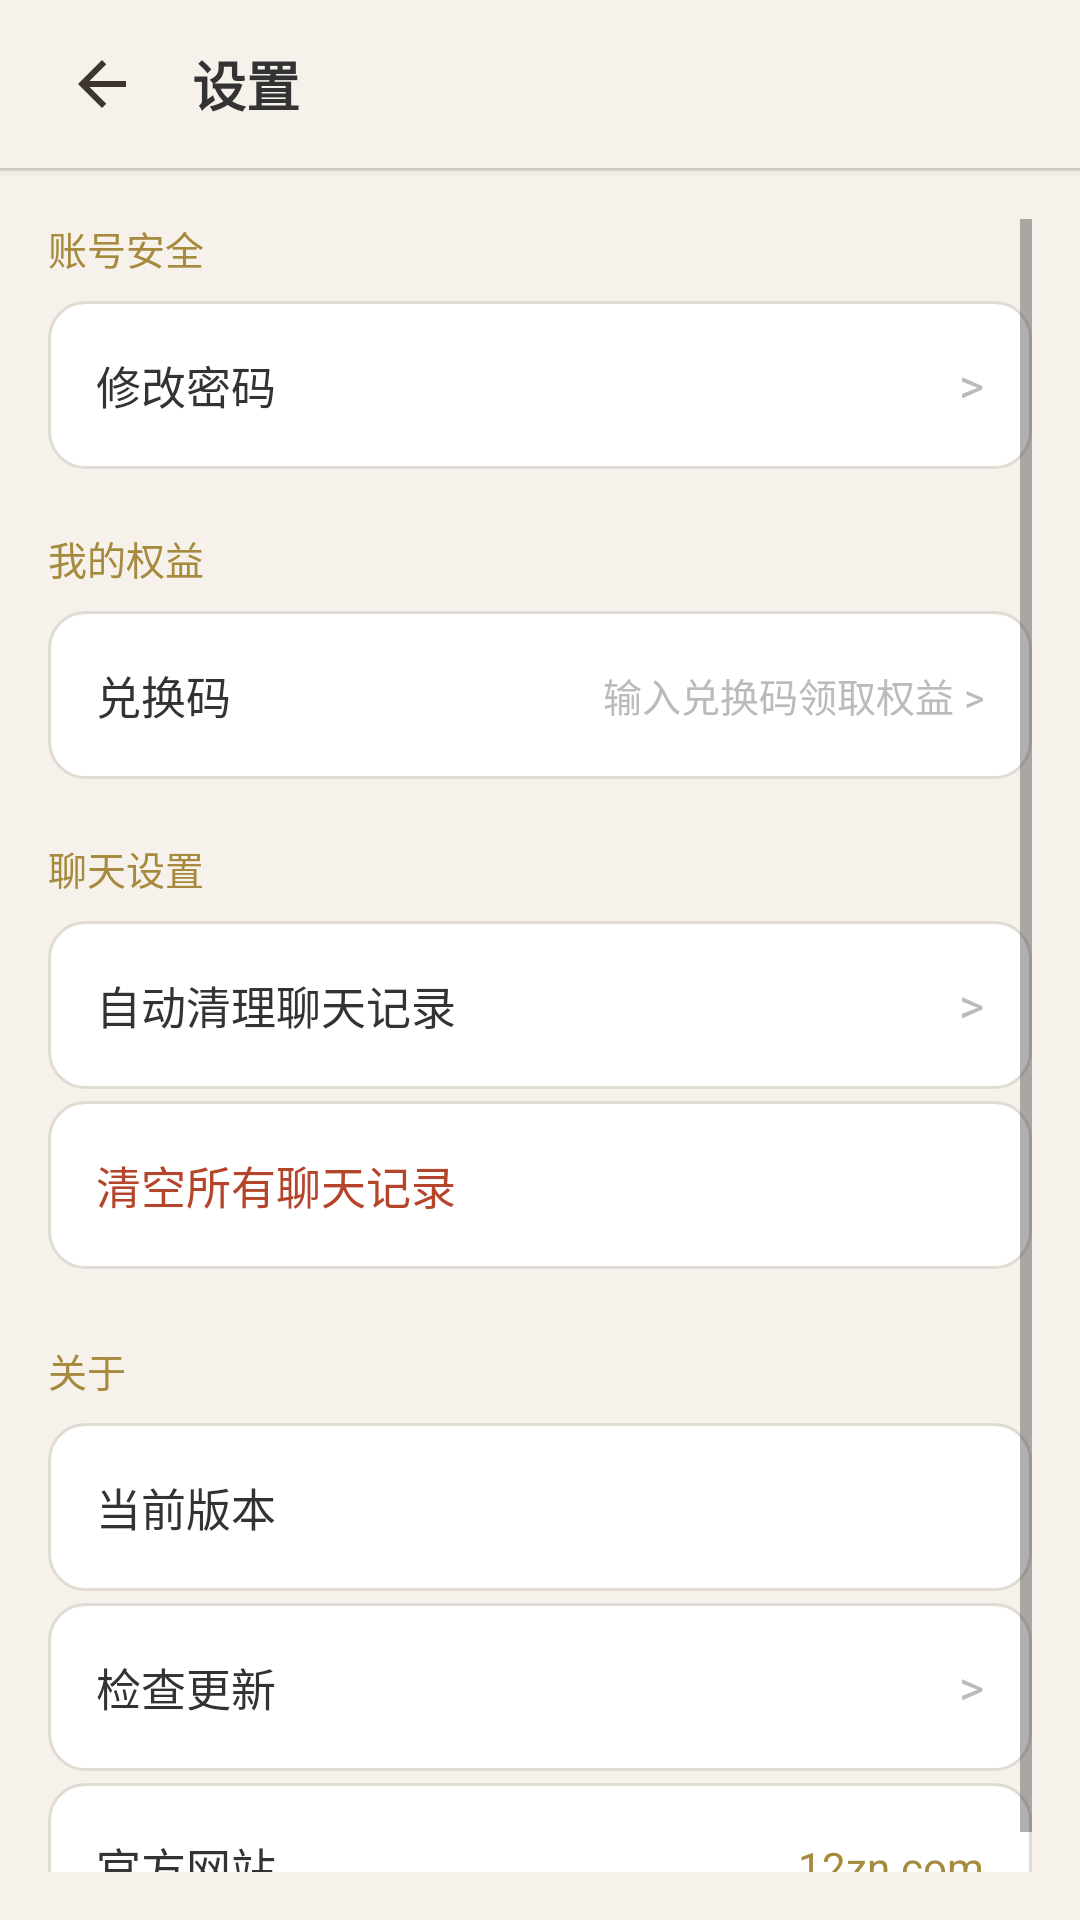

Named icons in this screenshot (1080 × 1920) and their bounding boxes, (x1, y1, x2, y2):
返回: (78, 60, 126, 108)
